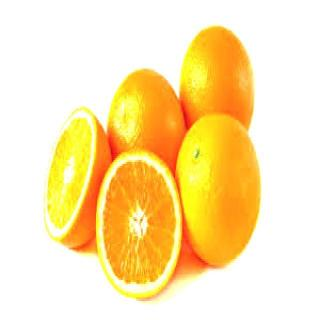orange: (89, 135, 189, 315), (180, 103, 262, 298), (173, 17, 271, 150), (34, 101, 114, 262), (101, 57, 192, 187)
